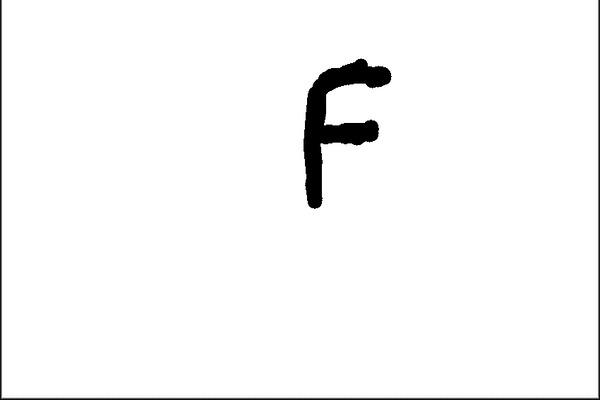F: (297, 55, 393, 212)
